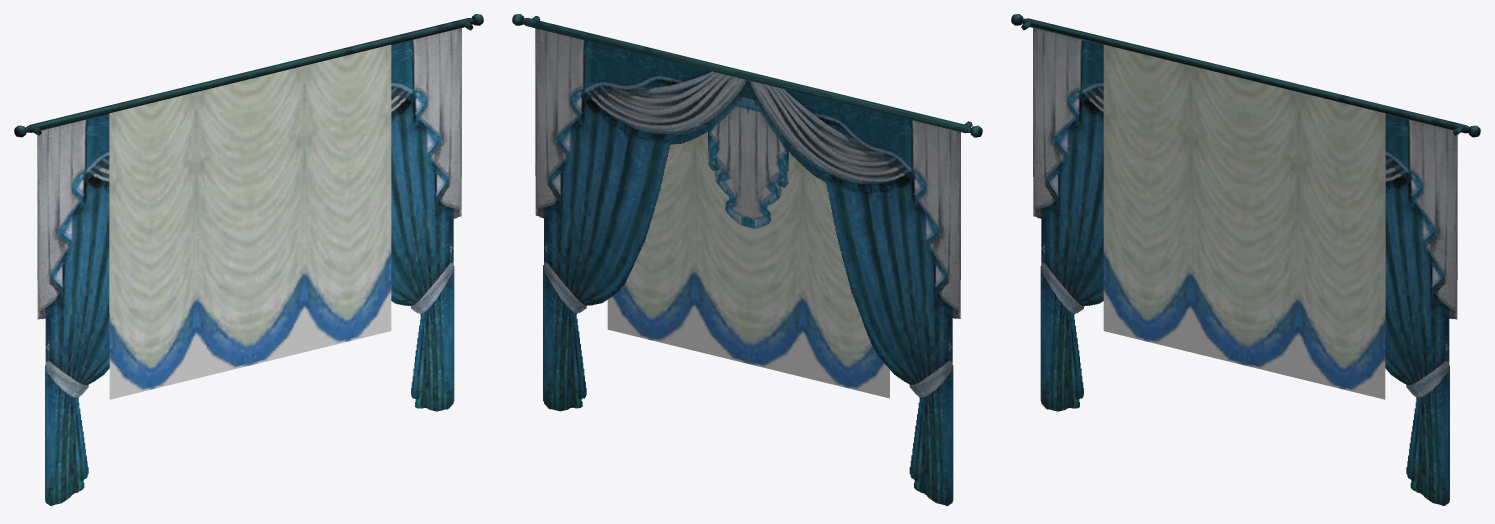
The model's file is furni_0201233_01.FBX.
3 views of the same model, side by side, from view 1: azimuth 30°, elevation 25°; view 2: azimuth 150°, elevation 25°; view 3: azimuth 330°, elevation 25° (orthographic).
Parts seen in each view (by area): view 1: furni_0201233_01; view 2: furni_0201233_01; view 3: furni_0201233_01.
Part boxes in pixels (x1,y1,x2,y2): furni_0201233_01: (14,14,483,505); furni_0201233_01: (512,14,982,506); furni_0201233_01: (1011,14,1480,505).
Size of the model in its own units: 353 by 279 by 12.24.
